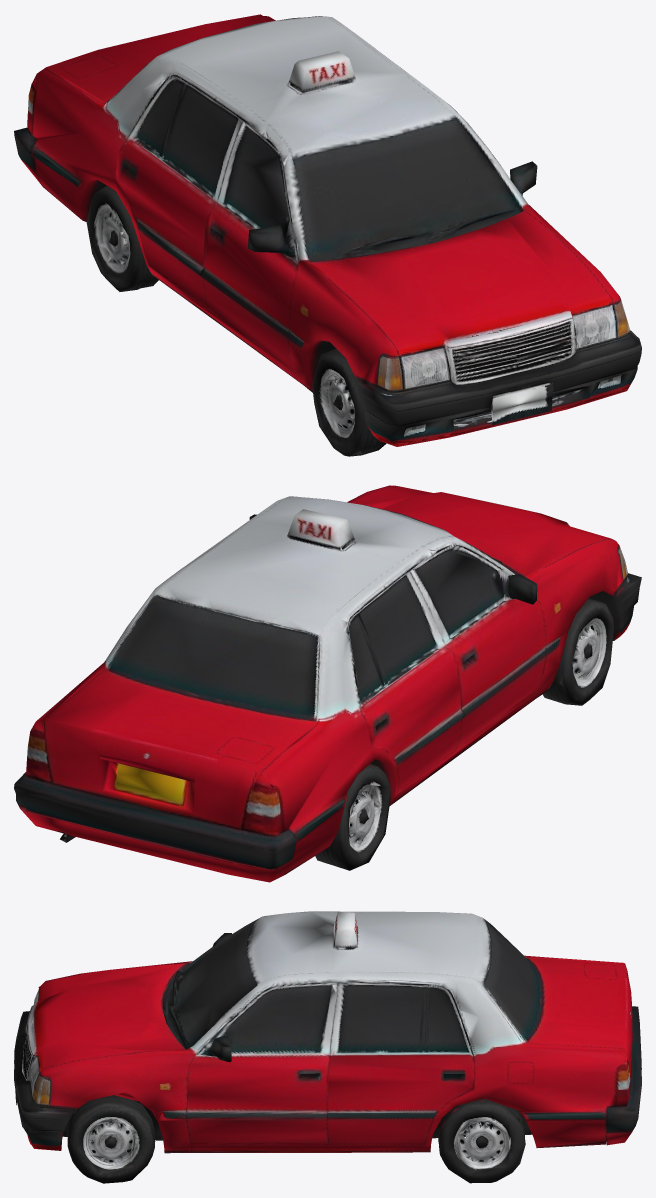
File: v01-classic-taxi-6k.glb
3 views of the same model, one above another, from view 1: azimuth 30°, elevation 25°; view 2: azimuth 150°, elevation 25°; view 3: azimuth 270°, elevation 25° (orthographic). The views are drawn at different scales.
Visible parts, largest first — view 1: tripo_node_da6d6376-cc75-406a-b7b0-53061c8af890; view 2: tripo_node_da6d6376-cc75-406a-b7b0-53061c8af890; view 3: tripo_node_da6d6376-cc75-406a-b7b0-53061c8af890.
Part boxes in pixels (bbox=[...]): tripo_node_da6d6376-cc75-406a-b7b0-53061c8af890: bbox=[14, 14, 641, 456]; tripo_node_da6d6376-cc75-406a-b7b0-53061c8af890: bbox=[14, 485, 641, 882]; tripo_node_da6d6376-cc75-406a-b7b0-53061c8af890: bbox=[14, 911, 641, 1183].
Bounding box in the file's own units: 0.4242 × 0.3681 × 0.9792.
1 material, 1 textured.
